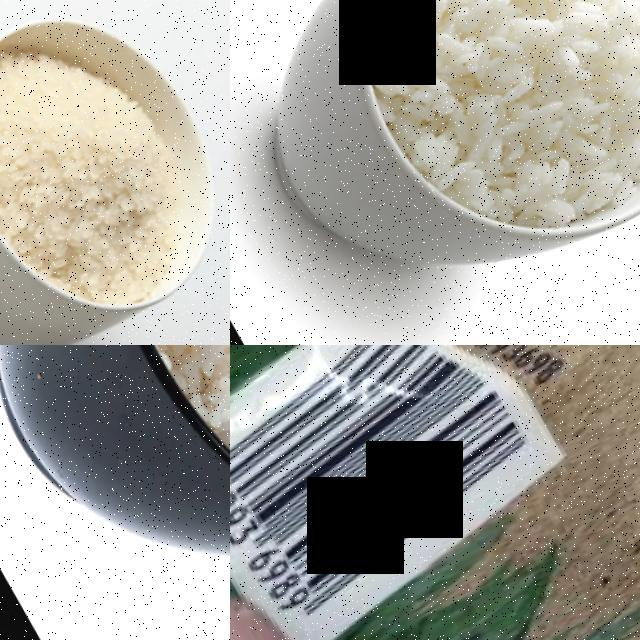white rice: (292, 0, 640, 299), (0, 34, 204, 313), (75, 345, 230, 559)
